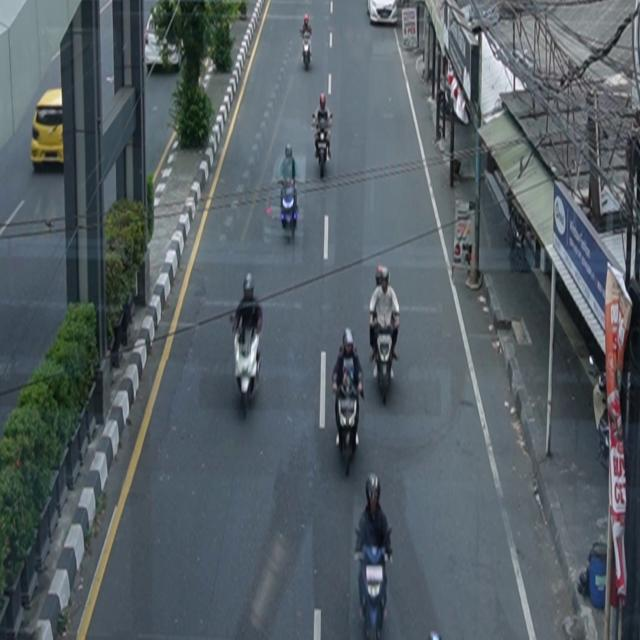car: (31, 88, 65, 171), (145, 9, 185, 73), (367, 1, 398, 26)
